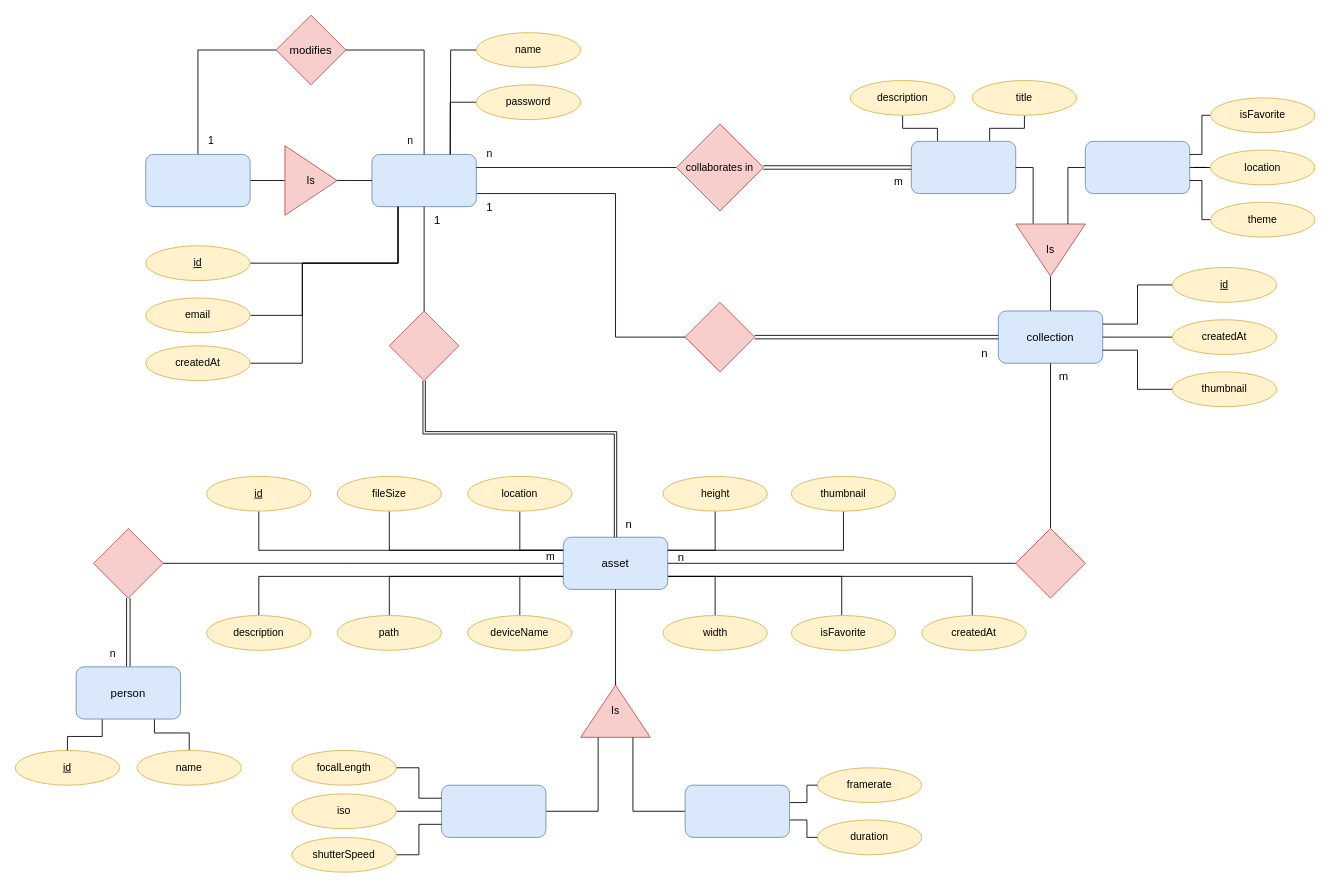
The diagram is 1330 pixels wide and 887 high, and some of its shapes have lost their labels. The shapes that lost their labels are listed below. From the top down, each one's centre as x and y in pixels, then its label:
At point (197, 180): "admin".
At point (423, 180): "user".
At point (963, 167): "album".
At point (1137, 167): "memory".
At point (423, 345): "has".
At point (719, 336): "owns".
At point (128, 563): "appears in".
At point (1050, 563): "contains".
At point (493, 810): "image".
At point (737, 810): "video".
